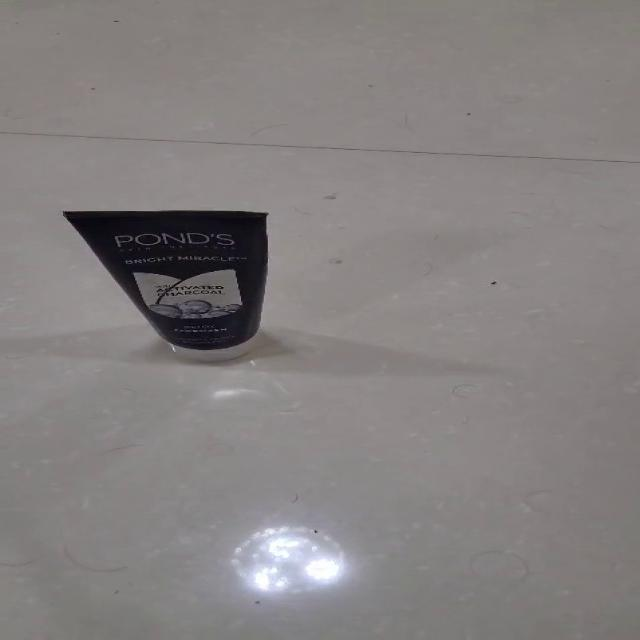plastic: (60, 209, 269, 362)
